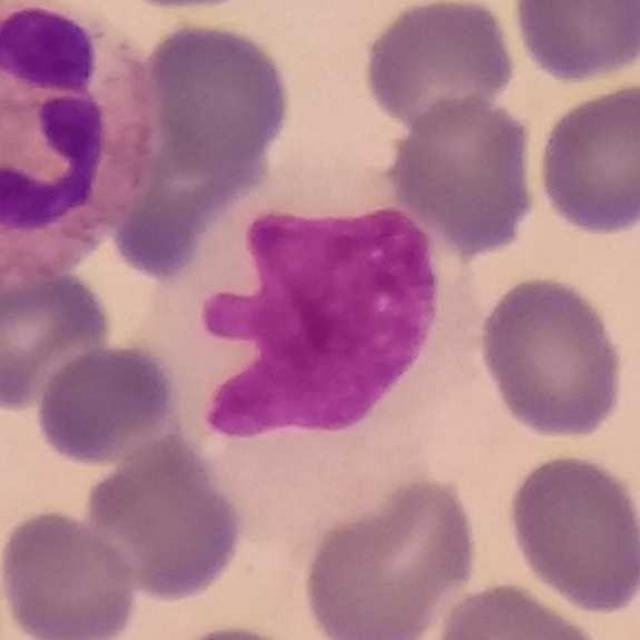Monocyte: (147, 173, 482, 546)
Neutrophil: (1, 0, 165, 295)
RBC: (297, 471, 483, 640), (80, 432, 248, 604), (473, 270, 631, 443), (382, 89, 542, 256), (141, 16, 296, 172), (503, 449, 640, 616), (357, 0, 520, 135), (32, 340, 182, 468), (0, 504, 141, 640), (0, 255, 117, 416), (533, 82, 640, 243), (428, 576, 615, 640), (507, 0, 640, 87), (160, 619, 323, 640)
